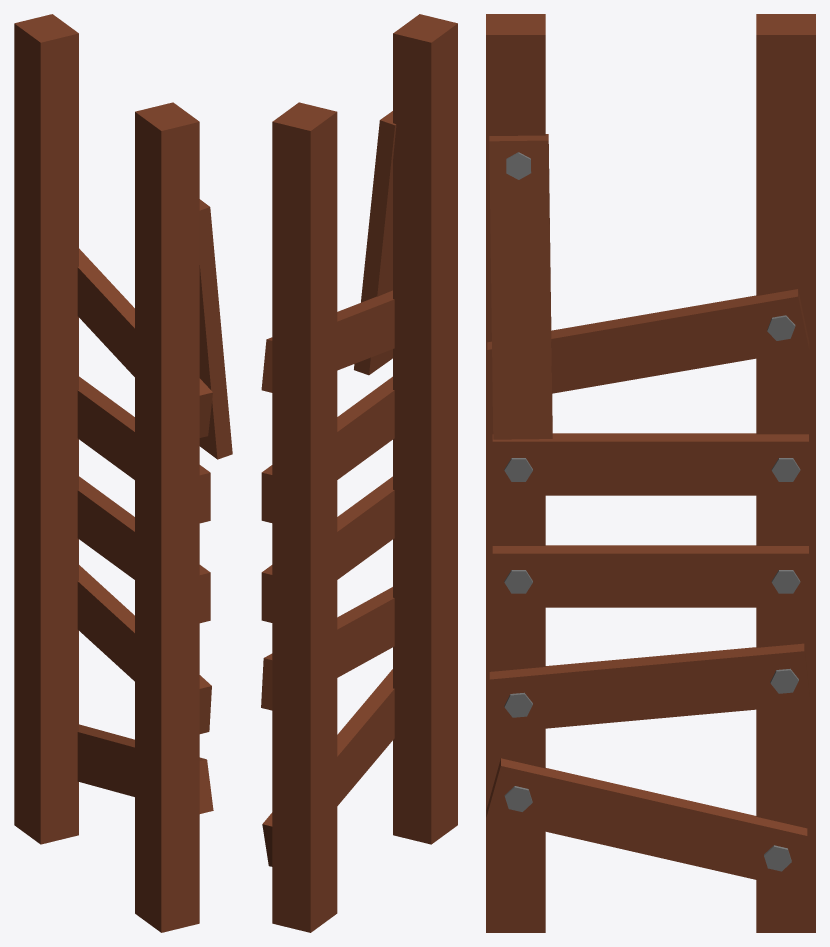
The model's file is damagedLadder.glb.
The picture shows the model from 3 angles, left to right: view 1: azimuth 30°, elevation 25°; view 2: azimuth 150°, elevation 25°; view 3: azimuth 270°, elevation 25°; orthographic projection. The views are drawn at different scales.
Parts seen in each view (by area): view 1: Cube; view 2: Cube; view 3: Cube.
Part boxes in pixels (x1=…): Cube: x1=14, y1=14, x2=232, y2=932; Cube: x1=261, y1=14, x2=457, y2=932; Cube: x1=486, y1=14, x2=815, y2=932.
Bounding box in the file's own units: 0.9725 × 10 × 3.33.
